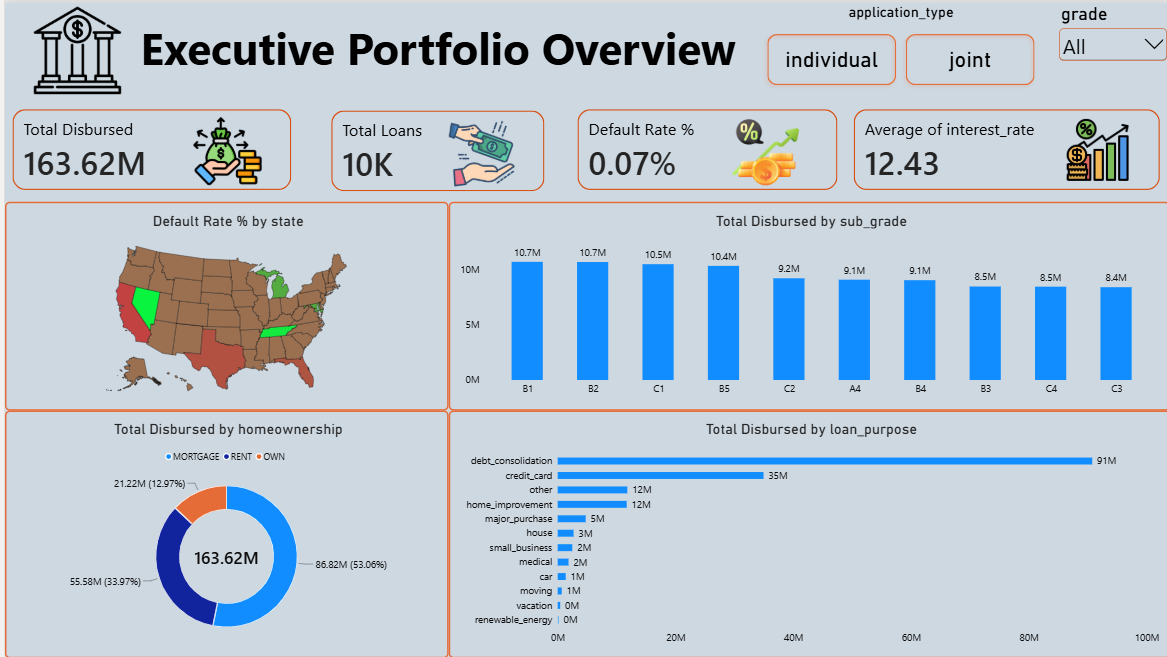

What the dashboard file says about the page in this screenshot:
{"tool":"powerbi","page":{"name":"Portfolio Overview","canvas":[1920,1080],"ordinal":0},"visuals":[{"type":"cardVisual","fields":{"Data":["Calculated Measures.Total Disbursed"]},"box":[12.3,175,459,133.8],"z":0},{"type":"cardVisual","fields":{"Data":["Calculated Measures.Total Loans"]},"box":[537.2,177,352,133.8],"z":1000},{"type":"cardVisual","fields":{"Data":["Calculated Measures.Default Rate %"]},"box":[942.7,175,428.1,133.8],"z":2000},{"type":"cardVisual","fields":{"Data":["Avg(public loan_portfolio.interest_rate)"]},"box":[1397.6,175,504.3,133.8],"z":3000},{"type":"slicer","fields":{"Values":["public loan_portfolio.grade"]},"box":[1731.1,0,189.4,129.7],"z":4000},{"type":"advancedSlicerVisual","fields":{"Values":["public loan_portfolio.application_type"]},"box":[1247.3,0,456.9,144.1],"z":5000},{"type":"donutChart","fields":{"Category":["public loan_portfolio.homeownership"],"Y":["Calculated Measures.Total Disbursed"]},"box":[0,671,730.7,409.6],"z":6000},{"type":"clusteredBarChart","fields":{"Category":["public loan_portfolio.loan_purpose"],"Y":["Calculated Measures.Total Disbursed"]},"box":[730.7,671,1189.7,409.6],"z":7000},{"type":"shapeMap","fields":{"Category":["public loan_portfolio.state"],"Value":["Calculated Measures.Default Rate %"]},"box":[0,327.3,730.7,343.7],"z":8000},{"type":"textbox","box":[205.8,24.7,1014.8,105],"z":9000},{"type":"clusteredColumnChart","fields":{"Y":["Calculated Measures.Total Disbursed"],"Category":["public loan_portfolio.sub_grade"]},"box":[730.7,327.3,1189.7,343.7],"z":10000},{"type":"image","box":[32.9,6.2,172.9,144.1],"z":11000},{"type":"image","box":[253.2,187.3,226.4,113.2],"z":11001},{"type":"image","box":[714.2,191.4,142,113.2],"z":11002},{"type":"image","box":[1179.4,191.4,146.1,109.1],"z":11003},{"type":"image","box":[1677.5,187.3,242.9,109.1],"z":11004}]}

Visuals, with their boxes in screenshot pixels (x1, y1, x2, y2), scaled from the page's 1920x1080 canvas onto the 1167x657 screenshot:
cardVisual - Calculated Measures.Total Disbursed: select_region(7, 106, 286, 188)
cardVisual - Calculated Measures.Total Loans: select_region(327, 108, 540, 189)
cardVisual - Calculated Measures.Default Rate %: select_region(573, 106, 833, 188)
cardVisual - Avg(public loan_portfolio.interest_rate): select_region(849, 106, 1156, 188)
slicer - public loan_portfolio.grade: select_region(1052, 0, 1166, 79)
advancedSlicerVisual - public loan_portfolio.application_type: select_region(758, 0, 1036, 88)
donutChart - public loan_portfolio.homeownership x Calculated Measures.Total Disbursed: select_region(0, 408, 444, 656)
clusteredBarChart - public loan_portfolio.loan_purpose x Calculated Measures.Total Disbursed: select_region(444, 408, 1166, 656)
shapeMap - public loan_portfolio.state x Calculated Measures.Default Rate %: select_region(0, 199, 444, 408)
textbox: select_region(125, 15, 742, 79)
clusteredColumnChart - Calculated Measures.Total Disbursed x public loan_portfolio.sub_grade: select_region(444, 199, 1166, 408)
image: select_region(20, 4, 125, 91)
image: select_region(154, 114, 292, 183)
image: select_region(434, 116, 520, 185)
image: select_region(717, 116, 806, 183)
image: select_region(1020, 114, 1166, 180)
